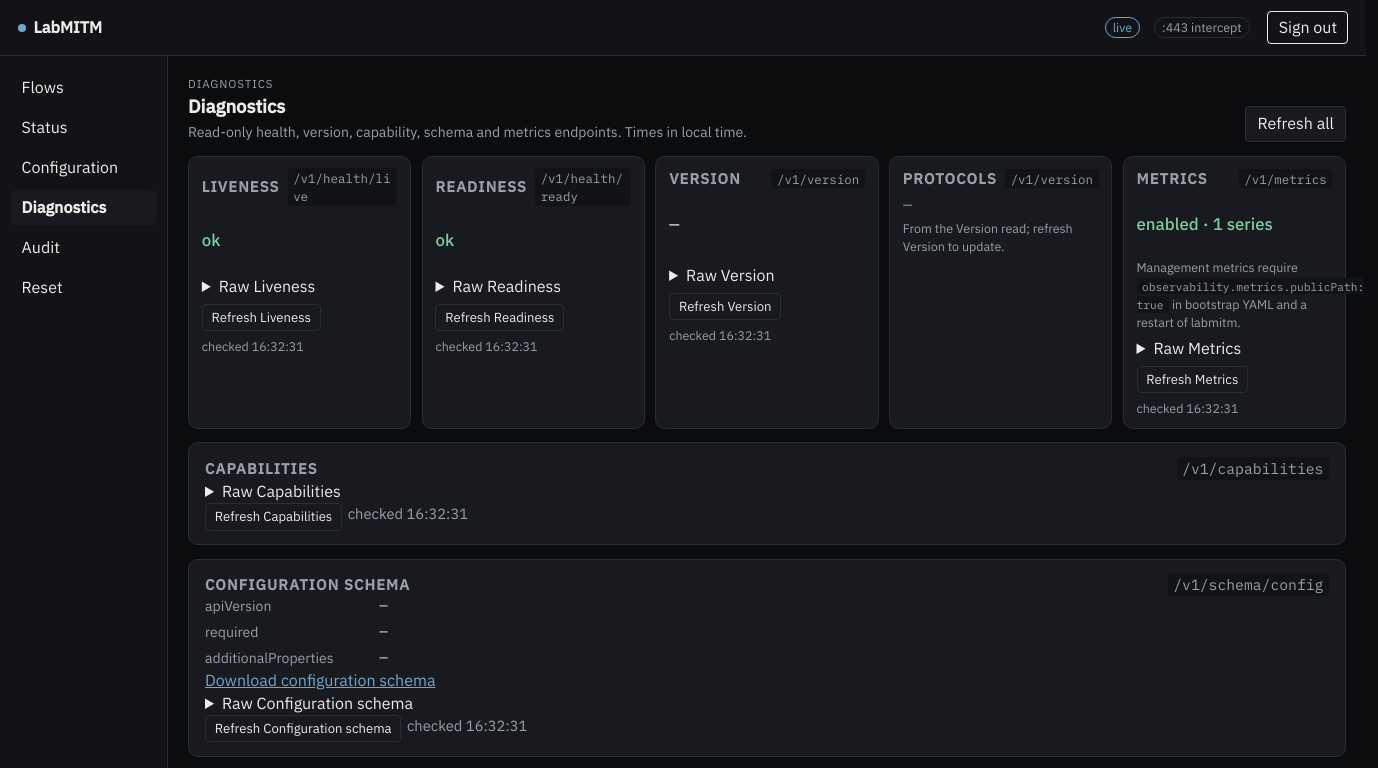
Test: frontend parity routes › signs out through the session adapter and clears the CSRF secret
This screenshot has width=1378, height=768.
Click the button "Sign out": point(1308, 28) [1267,11,1348,44]
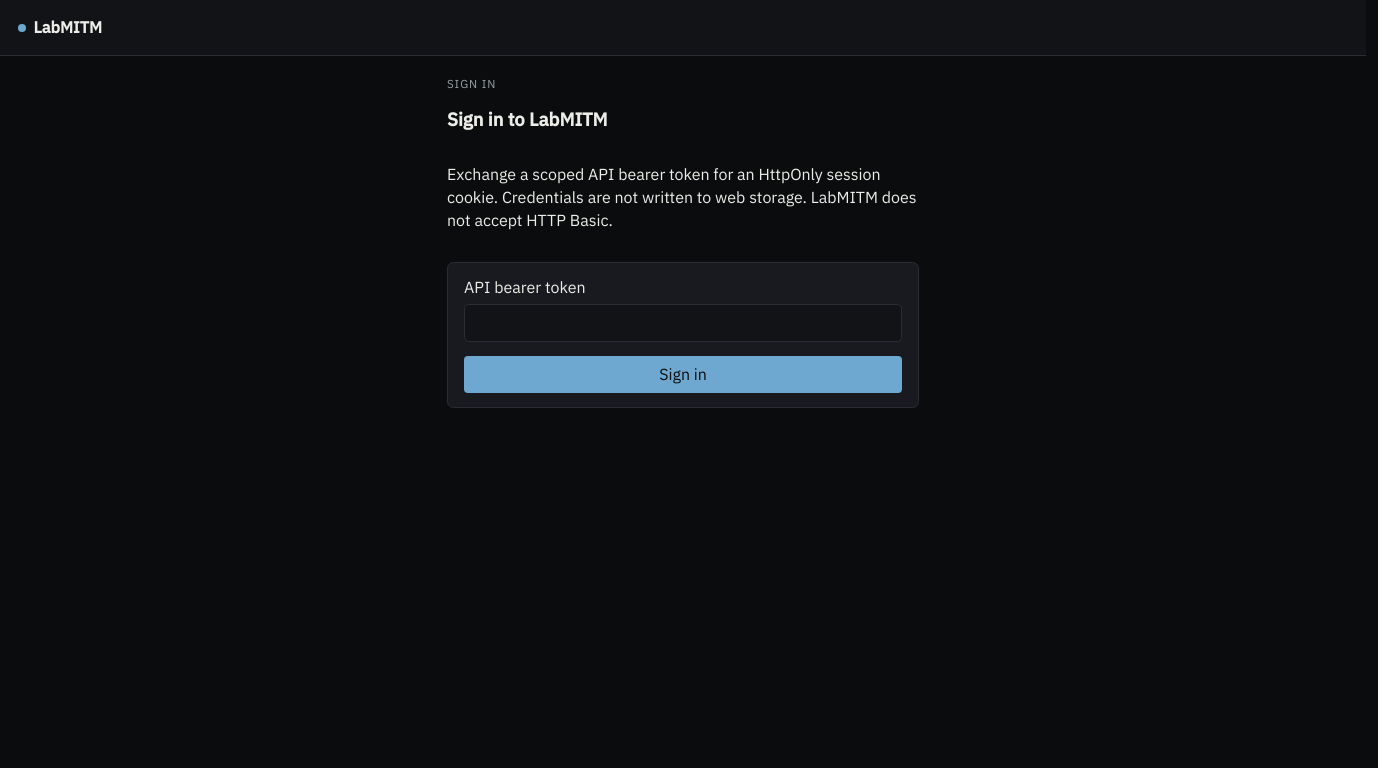
Expected: the heading "Sign in to LabMITM" is shown, [447,107,608,131]
